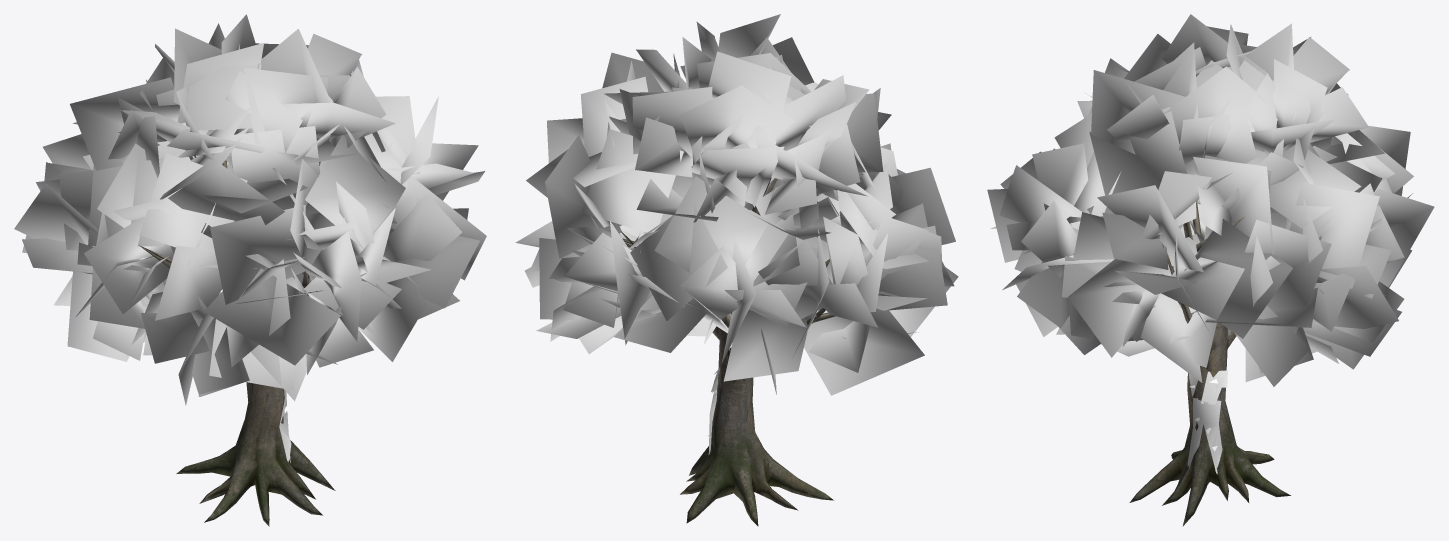
Rendered from plants_me_tree_beech02_cv00.gltf.
The picture shows the model from 3 angles, left to right: view 1: azimuth 30°, elevation 25°; view 2: azimuth 150°, elevation 25°; view 3: azimuth 270°, elevation 25°; orthographic projection.
Visible parts, largest first — view 1: um_plants_me_tree_beech02_cv00_model_lod0Shape:plants_beech0, um_plants_me_tree_beech02_cv00_model_lod1Shape:plants_beech0, um_plants_me_tree_beech02_cv00_model_lod0Shape:plants_me_tre, um_plants_me_tree_beech02_cv00_model_lod1Shape:plants_me_tre; view 2: um_plants_me_tree_beech02_cv00_model_lod0Shape:plants_beech0, um_plants_me_tree_beech02_cv00_model_lod1Shape:plants_beech0, um_plants_me_tree_beech02_cv00_model_lod0Shape:plants_me_tre, um_plants_me_tree_beech02_cv00_model_lod1Shape:plants_me_tre; view 3: um_plants_me_tree_beech02_cv00_model_lod0Shape:plants_beech0, um_plants_me_tree_beech02_cv00_model_lod1Shape:plants_beech0, um_plants_me_tree_beech02_cv00_model_lod0Shape:plants_me_tre, um_plants_me_tree_beech02_cv00_model_lod1Shape:plants_me_tre, um_plants_me_tree_beech02_cv00_model_lod0Shape:plants_ivy01_, um_plants_me_tree_beech02_cv00_model_lod1Shape:plants_ivy01_.
Boxes of the visible parts, x1=… form: um_plants_me_tree_beech02_cv00_model_lod0Shape:plants_beech0: x1=14, y1=14, x2=486, y2=405; um_plants_me_tree_beech02_cv00_model_lod1Shape:plants_beech0: x1=22, y1=23, x2=484, y2=396; um_plants_me_tree_beech02_cv00_model_lod0Shape:plants_me_tre: x1=87, y1=156, x2=335, y2=526; um_plants_me_tree_beech02_cv00_model_lod1Shape:plants_me_tre: x1=84, y1=150, x2=329, y2=525; um_plants_me_tree_beech02_cv00_model_lod0Shape:plants_beech0: x1=515, y1=14, x2=958, y2=395; um_plants_me_tree_beech02_cv00_model_lod1Shape:plants_beech0: x1=530, y1=23, x2=954, y2=353; um_plants_me_tree_beech02_cv00_model_lod0Shape:plants_me_tre: x1=621, y1=147, x2=849, y2=526; um_plants_me_tree_beech02_cv00_model_lod1Shape:plants_me_tre: x1=625, y1=147, x2=831, y2=518; um_plants_me_tree_beech02_cv00_model_lod0Shape:plants_beech0: x1=987, y1=14, x2=1434, y2=386; um_plants_me_tree_beech02_cv00_model_lod1Shape:plants_beech0: x1=1054, y1=62, x2=1413, y2=367; um_plants_me_tree_beech02_cv00_model_lod0Shape:plants_me_tre: x1=1129, y1=202, x2=1290, y2=526; um_plants_me_tree_beech02_cv00_model_lod1Shape:plants_me_tre: x1=1140, y1=216, x2=1283, y2=525; um_plants_me_tree_beech02_cv00_model_lod0Shape:plants_ivy01_: x1=1187, y1=311, x2=1229, y2=474; um_plants_me_tree_beech02_cv00_model_lod1Shape:plants_ivy01_: x1=1188, y1=313, x2=1230, y2=473.
Size of what is drawn, in the model's own units: 19.58 by 20.69 by 18.4.
Materials: 4 (1 with a texture image).
